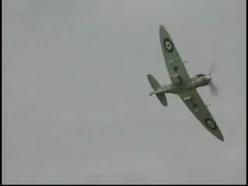aircraft: (147, 24, 225, 142)
